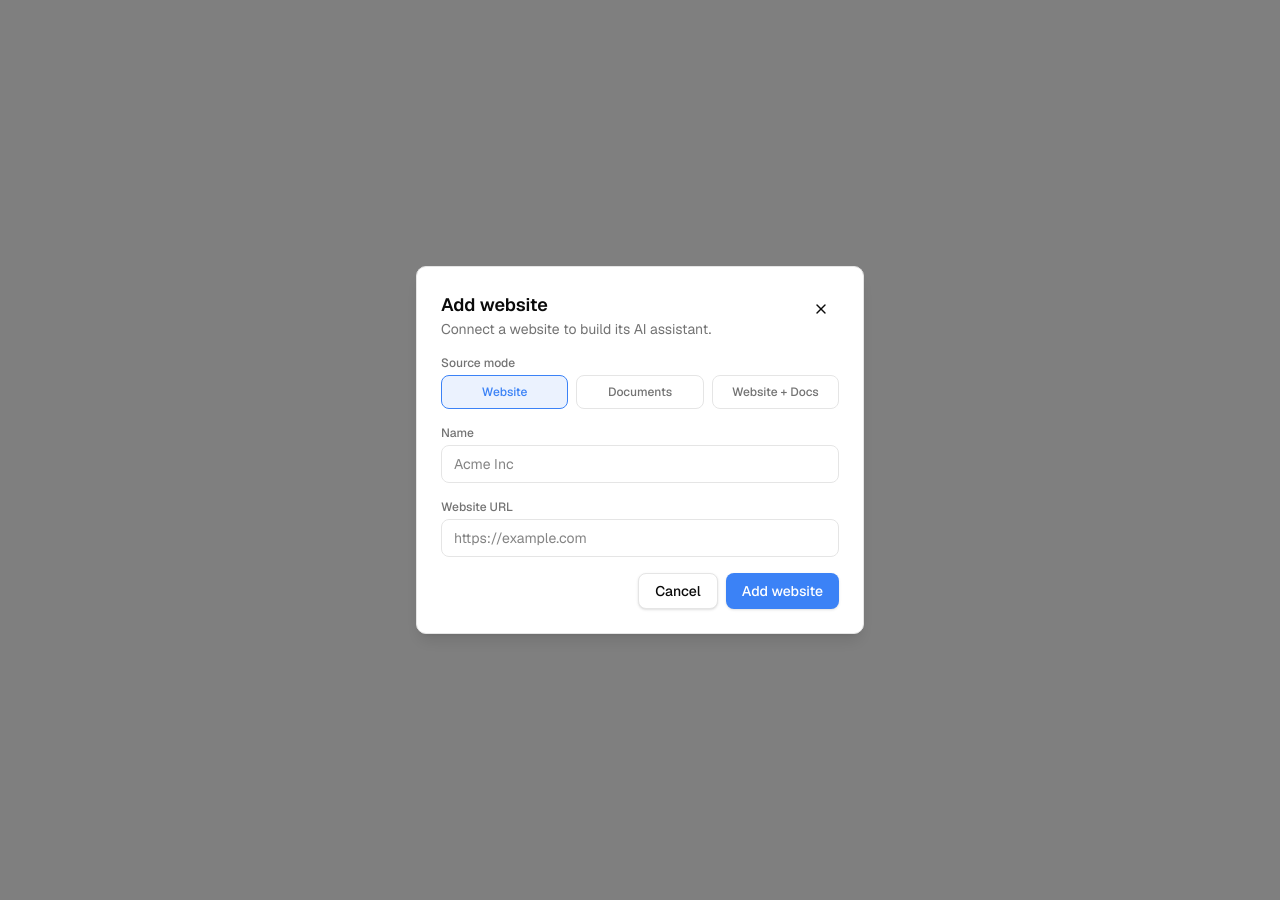
AddWebsiteDialog › creates an upload-only chatbot in documents mode without URL
// Switch to Documents mode
Step 1. Click the radio button labelled "Documents" → coordinates (640, 392), box [576,375,704,409]
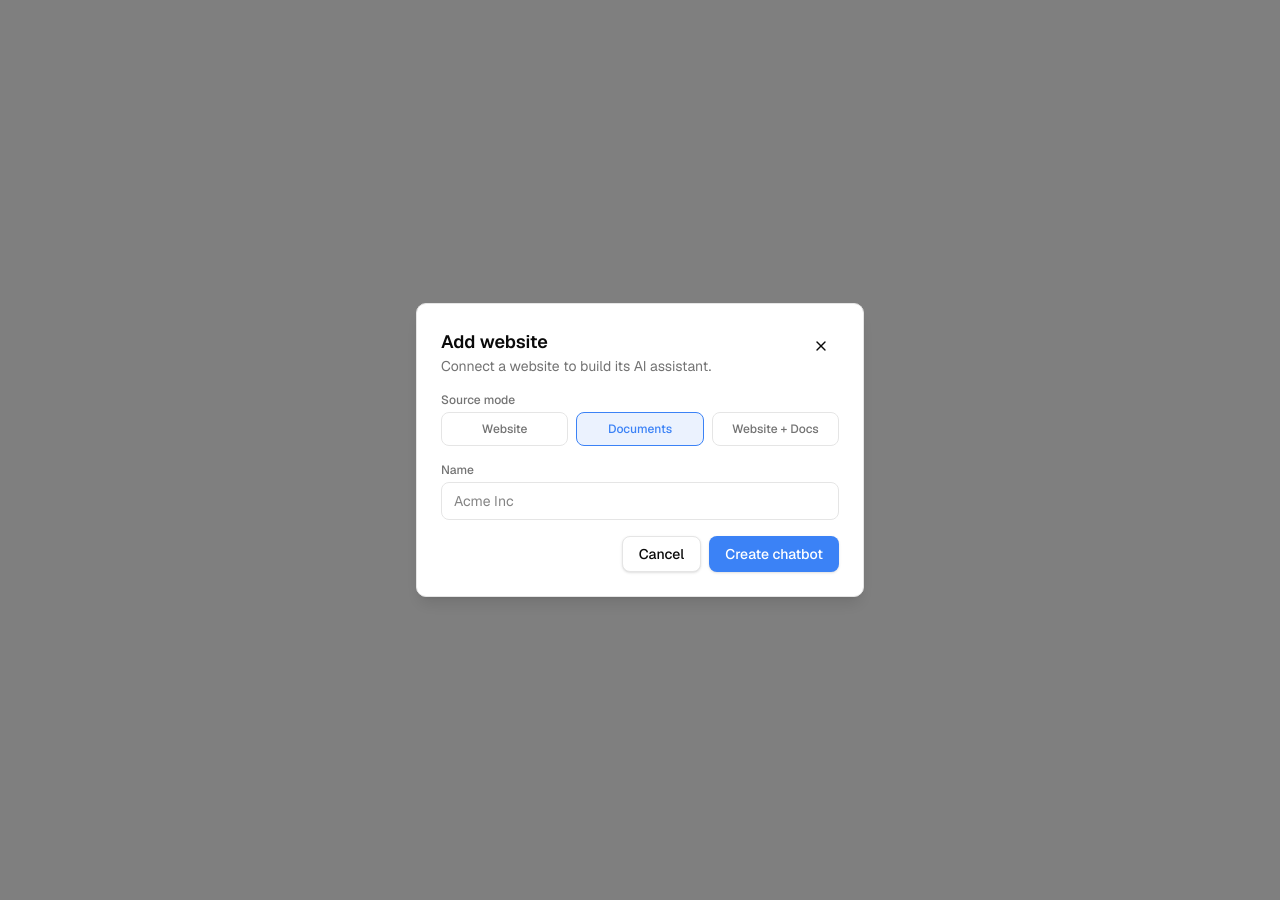
Now the label labelled "Website URL" is gone
Step 2. Type "DocBot" into the field labelled "Name" → coordinates (640, 501), box [441,482,839,520]
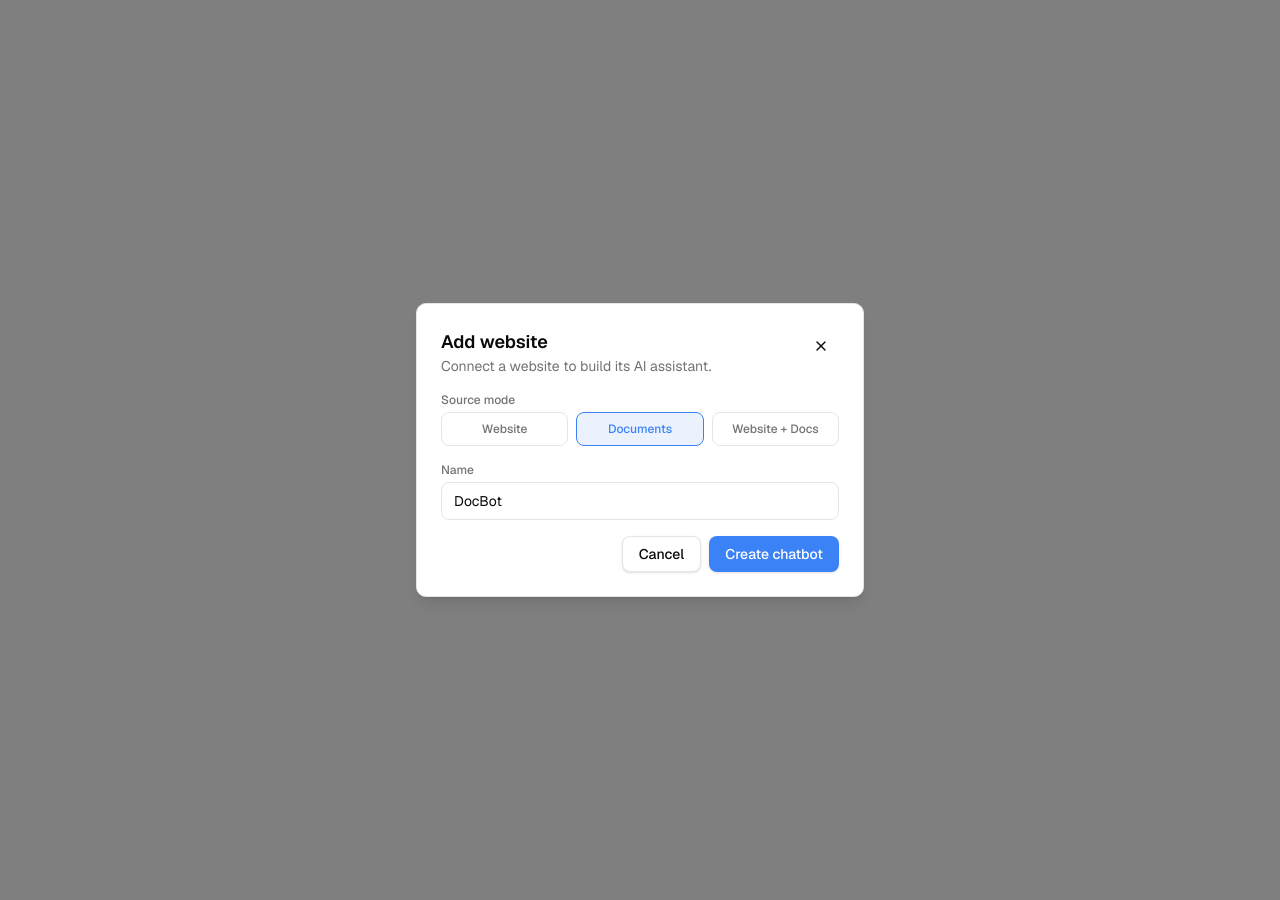
Step 3. Click the button "Create chatbot" → coordinates (774, 554), box [709,536,839,572]
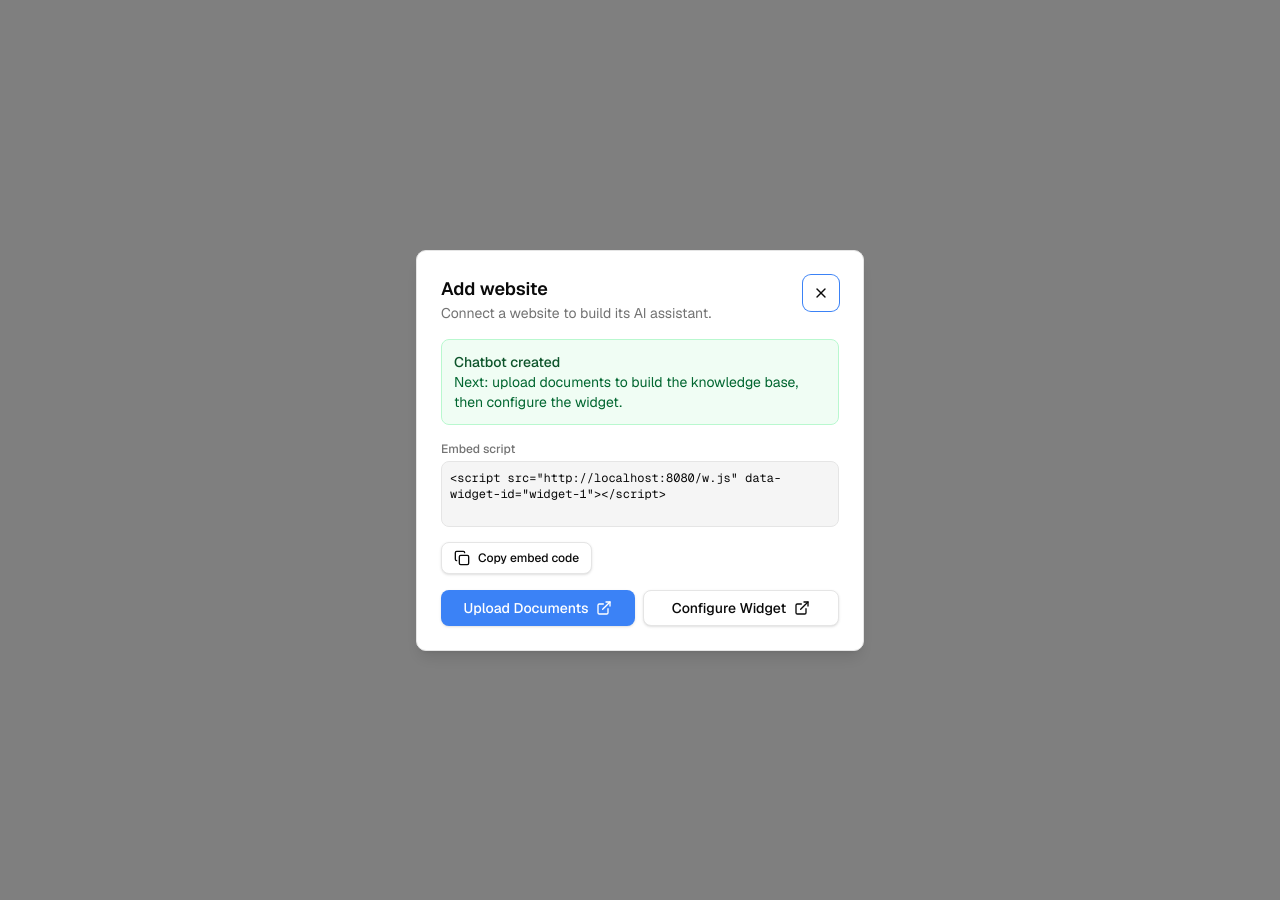
Now the text "Chatbot created" is shown, box [454,352,560,370]
Now the button "Upload Documents" is shown, box [441,590,635,626]
